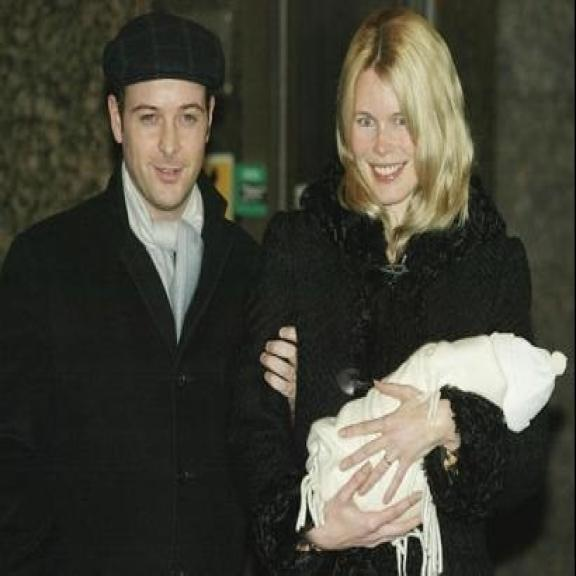face: (337, 26, 459, 215), (103, 33, 218, 215)
